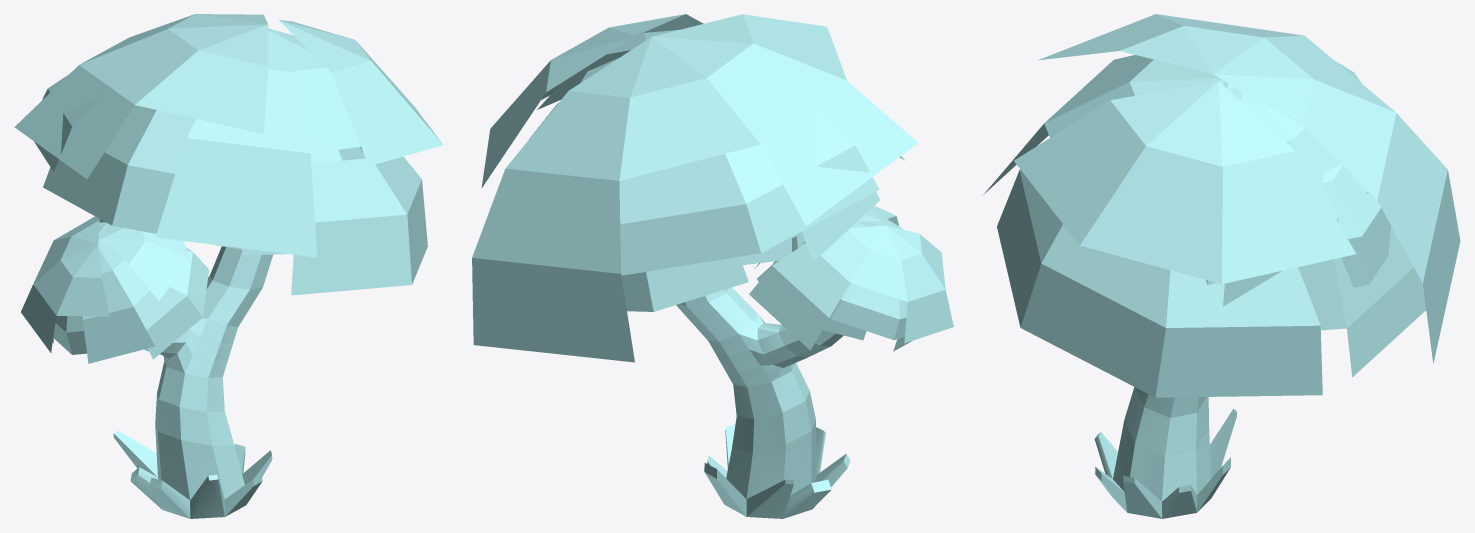
File: Tree flat 1.fbx
3 renders of one model, left to right at view 1: azimuth 30°, elevation 25°; view 2: azimuth 150°, elevation 25°; view 3: azimuth 270°, elevation 25°, orthographic. The views are drawn at different scales.
Visible parts, largest first — view 1: 1; view 2: 1; view 3: 1.
Part boxes in pixels (x1,y1,x2,y2): 1: (14,14,443,518); 1: (472,14,953,518); 1: (983,14,1460,518).
Bounding box in the file's own units: 2465 × 2706 × 2587.
